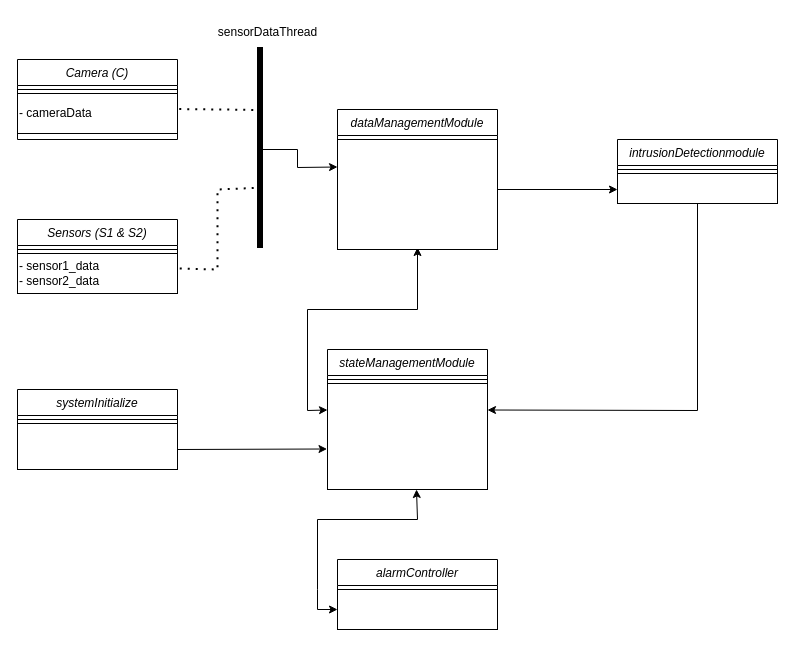
Some shapes in this 795 by 647 pixel diagram are drawn without their labels. Each missing label, with the centre of its shape:
"- computeData" goes at (x=417, y=194).
"- Inactive - Active - Alarmed" goes at (x=407, y=436).
"- IntrusionDetector" goes at (x=697, y=188).
"- valid(P)" goes at (x=97, y=446).
"- valid(P) - duration10" goes at (x=417, y=609).
